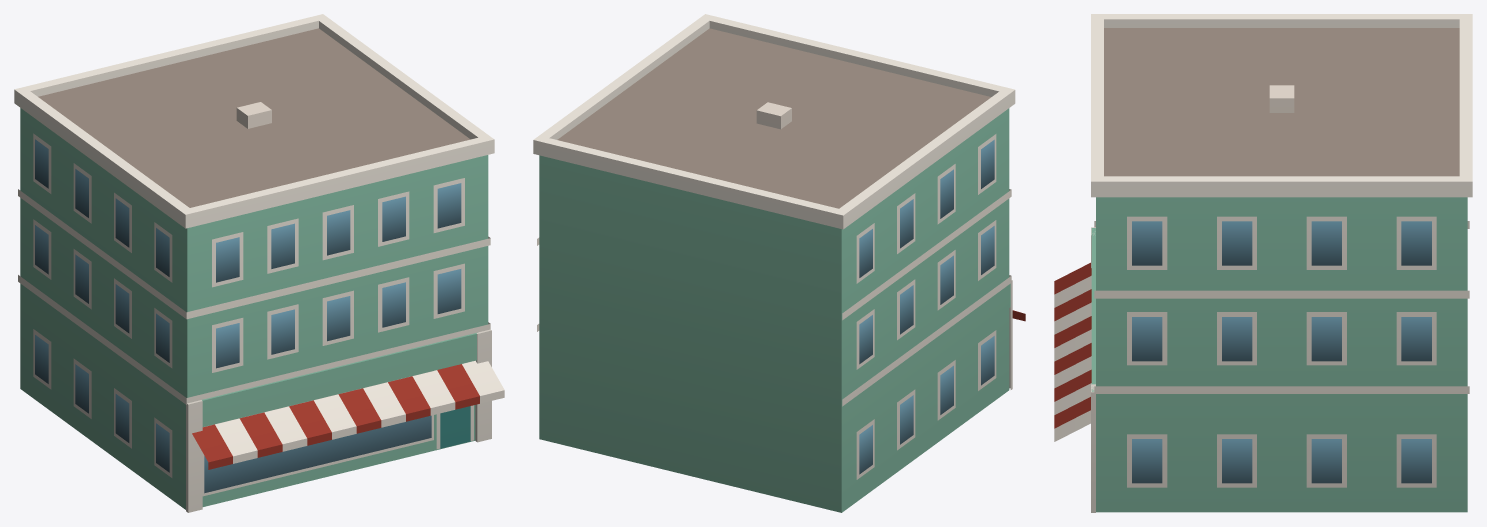
Rendered from vee_right3_far.glb.
The picture shows the model from 3 angles, left to right: view 1: azimuth 30°, elevation 25°; view 2: azimuth 150°, elevation 25°; view 3: azimuth 270°, elevation 25°; orthographic projection. The views are drawn at different scales.
Parts seen in each view (by area): view 1: vee_right3_far; view 2: vee_right3_far; view 3: vee_right3_far.
Part boxes in pixels (x1,y1,x2,y2): vee_right3_far: (14, 14, 504, 512); vee_right3_far: (533, 14, 1025, 512); vee_right3_far: (1054, 14, 1472, 512).
Bounding box in the file's own units: 12.82 × 12.07 × 13.51.
Materials: 1 (1 with a texture image).
